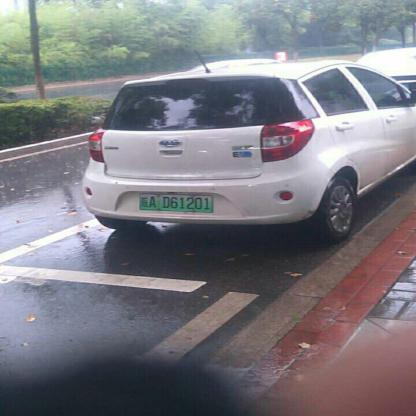lp: (138, 194, 212, 210)
